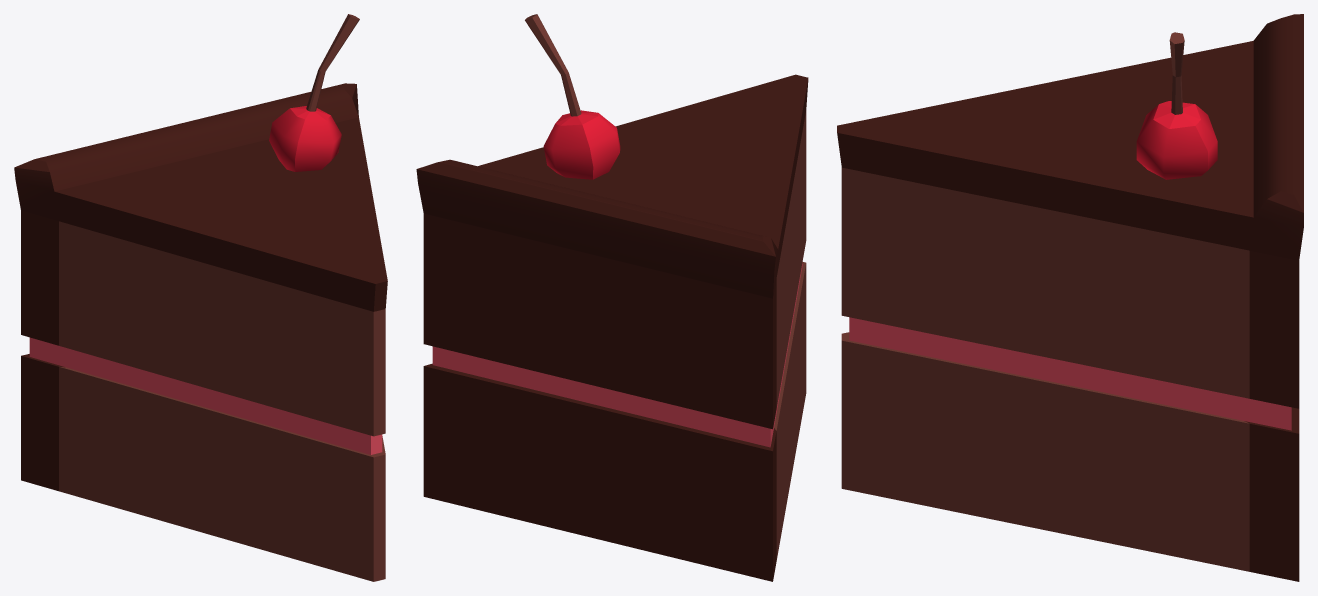
Rendered from cake_2.fbx.
The picture shows the model from 3 angles, left to right: view 1: azimuth 30°, elevation 25°; view 2: azimuth 150°, elevation 25°; view 3: azimuth 270°, elevation 25°; orthographic projection. The views are drawn at different scales.
Parts seen in each view (by area): view 1: cake; view 2: cake; view 3: cake.
Part boxes in pixels (x1,y1,x2,y2): cake: [14, 14, 387, 581]; cake: [416, 14, 808, 581]; cake: [837, 14, 1303, 581].
Bounding box in the file's own units: 1.03 × 1.25 × 1.02.
